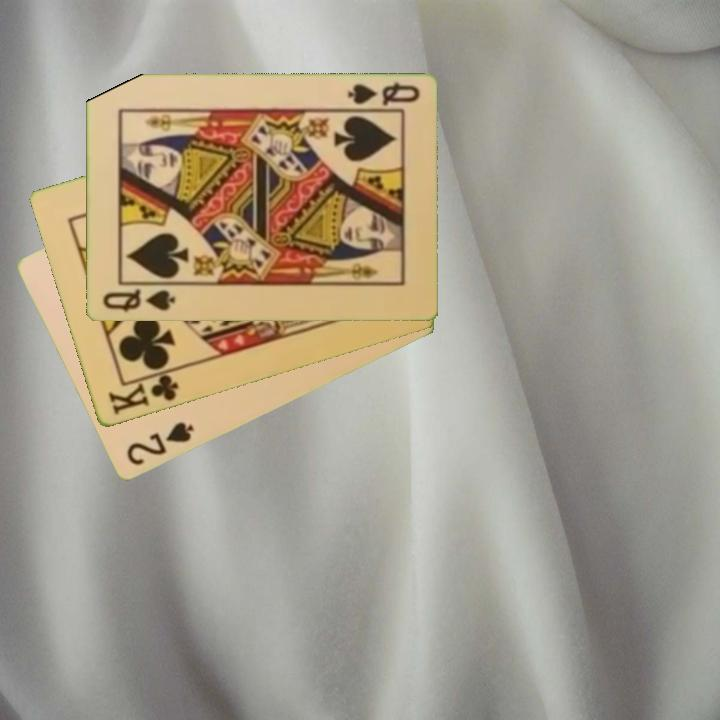2s: (122, 419, 197, 469)
Kc: (105, 366, 181, 419)
Qs: (342, 80, 422, 112), (99, 286, 178, 315)
